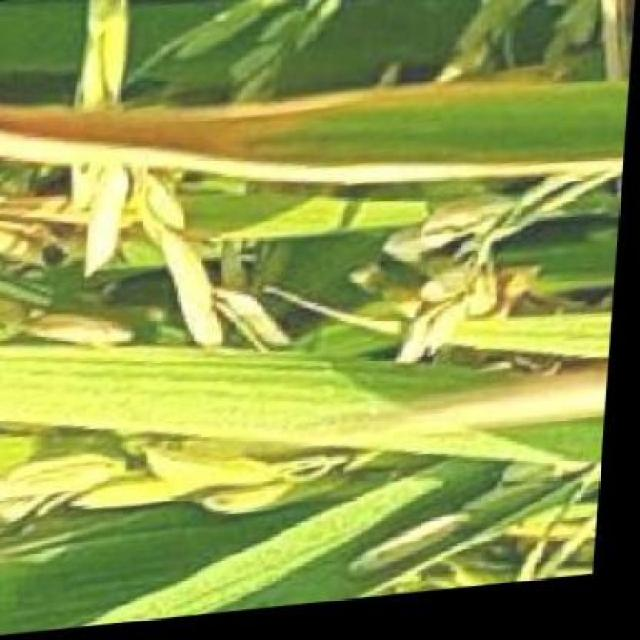Brown_Spot: (0, 29, 585, 246)
